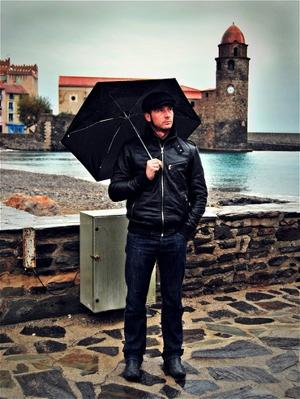person: (108, 91, 208, 383)
